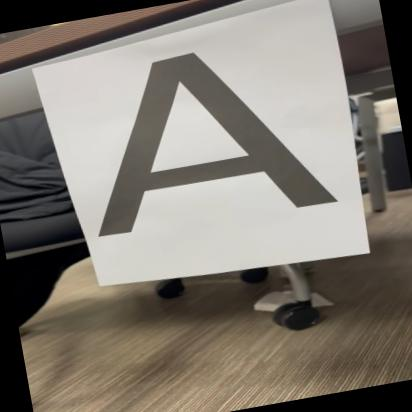seat: (60, 26, 350, 253)
